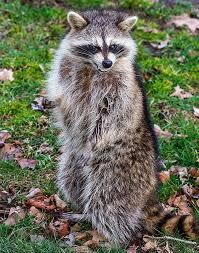raccoon: (15, 2, 199, 253)
